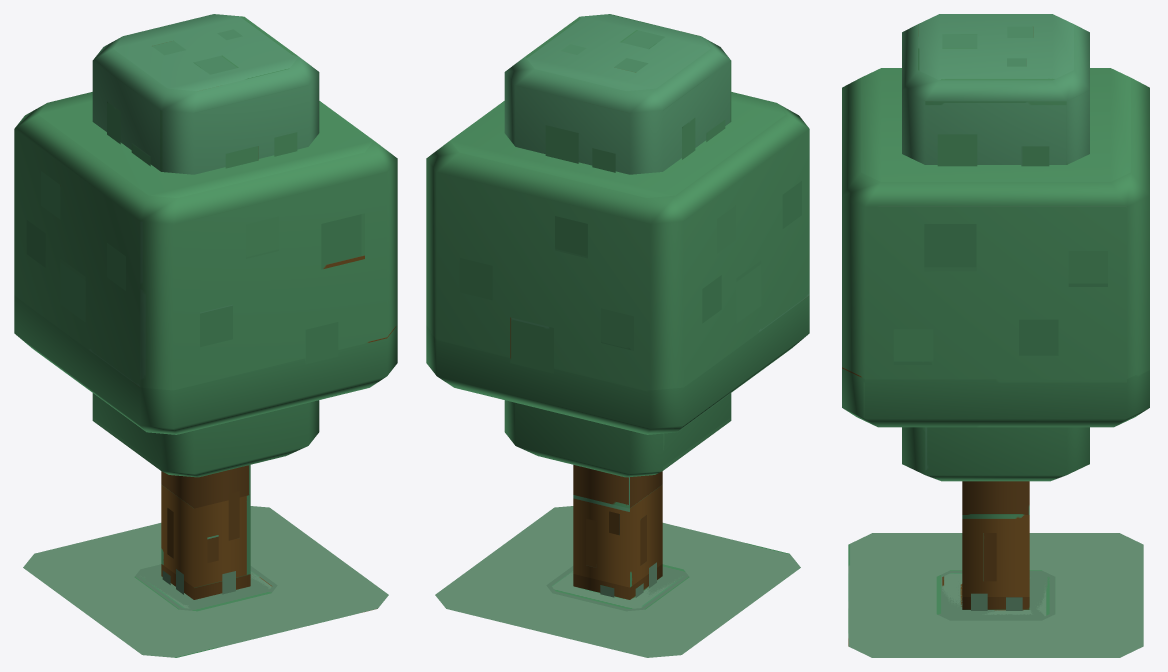
The model's file is B_water1_tree00.fbx.
The picture shows the model from 3 angles, left to right: view 1: azimuth 30°, elevation 25°; view 2: azimuth 150°, elevation 25°; view 3: azimuth 270°, elevation 25°; orthographic projection. The views are drawn at different scales.
Visible parts, largest first — view 1: model 1; view 2: model 1, model; view 3: model 1, model.
Boxes of the visible parts, x1,y1,x2,y2 form: model 1: (14,14,397,657); model 1: (426,14,809,657); model: (551,571,683,608); model 1: (842,14,1149,657); model: (942,573,1049,615).
Bounding box in the file's own units: 2.95 × 5.69 × 2.95.
1 material, 1 textured.
